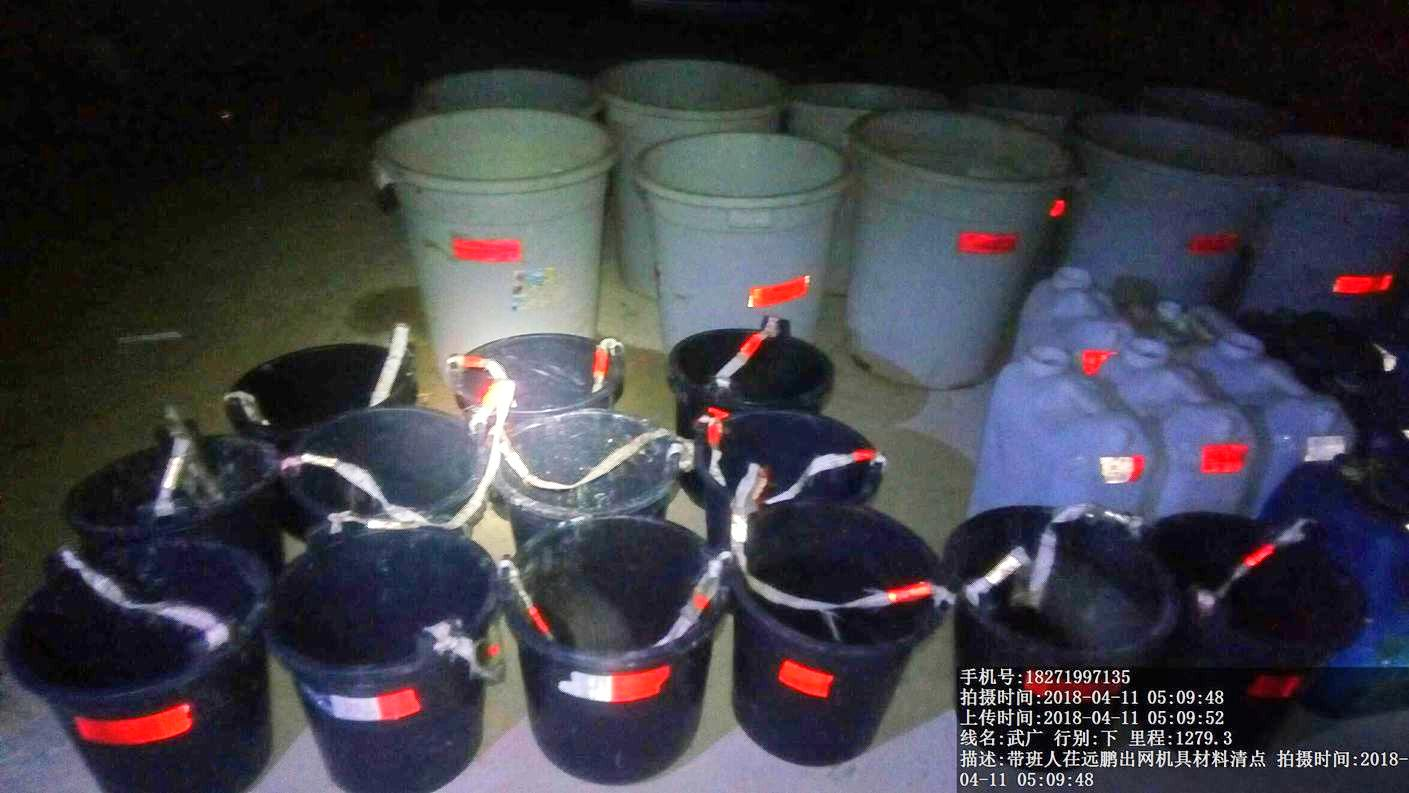SNT: (11, 538, 263, 793), (493, 517, 725, 776), (268, 535, 489, 791), (731, 506, 941, 769), (273, 418, 485, 531), (681, 409, 892, 508), (479, 416, 683, 516)
